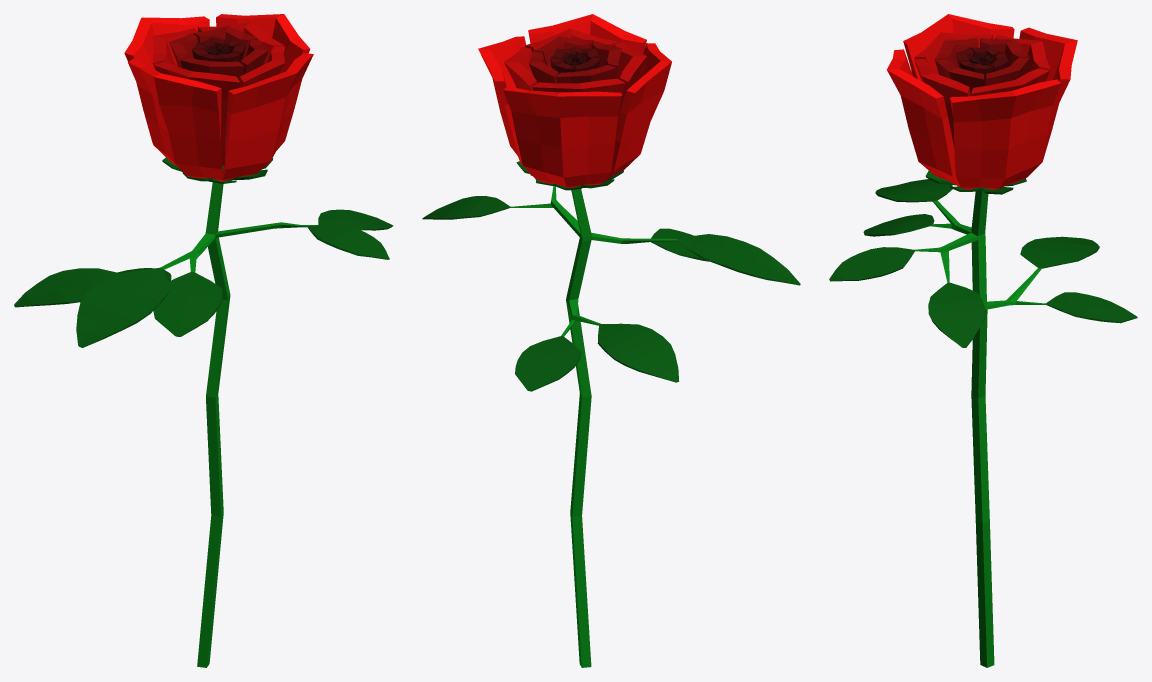
File: RosALINA.fbx
3 views of the same model, side by side, from view 1: azimuth 30°, elevation 25°; view 2: azimuth 150°, elevation 25°; view 3: azimuth 270°, elevation 25° (orthographic). The views are drawn at different scales.
Visible parts, largest first — view 1: Rose 1, Kern/Blätter, Stil, Rose 2, Rose 3, Rose 4; view 2: Rose 1, Kern/Blätter, Stil, Rose 2, Rose 3, Rose 4; view 3: Rose 1, Kern/Blätter, Stil, Rose 2, Rose 3, Rose 4.
Part boxes in pixels (x1,y1,x2,y2): Rose 1: (124,14,313,181); Kern/Blätter: (14,157,393,347); Stil: (160,182,317,667); Rose 2: (152,22,285,165); Rose 3: (169,26,268,79); Rose 4: (192,36,245,62); Rose 1: (478,14,671,188); Kern/Blätter: (422,161,800,391); Stil: (510,186,677,667); Rose 2: (504,29,646,124); Rose 3: (528,36,622,83); Rose 4: (550,47,600,73); Rose 1: (887,14,1077,189); Kern/Blätter: (829,171,1137,347); Stil: (914,190,1046,667); Rose 2: (913,32,1050,148); Rose 3: (934,37,1029,95); Rose 4: (955,45,1008,85).
Bounding box in the file's own units: 1285 × 2173 × 984.
